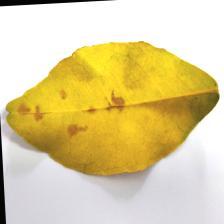canker: (13, 94, 129, 141)
